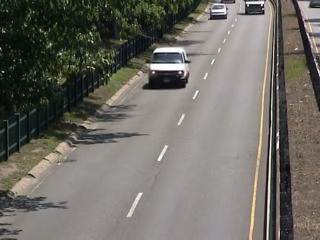car: (209, 3, 230, 23)
truck: (147, 47, 192, 88), (242, 1, 267, 15)
